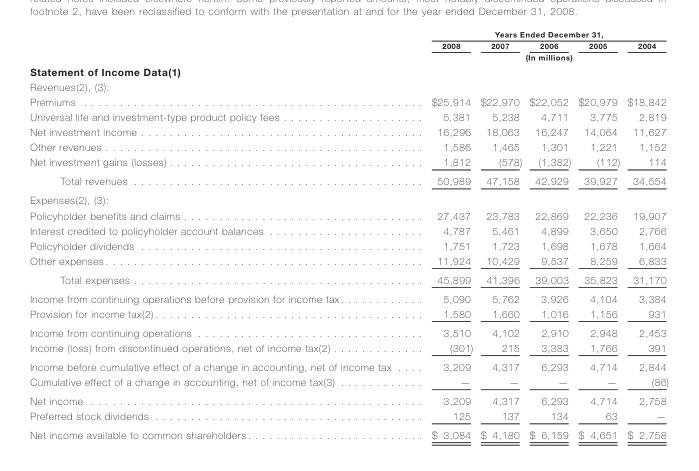table: (29, 29, 667, 440)
table column: (29, 29, 410, 440), (410, 29, 476, 440), (524, 29, 573, 440), (573, 29, 622, 440), (476, 29, 524, 440), (622, 29, 667, 440)
table column header: (29, 29, 667, 62)
table projected row header: (29, 190, 667, 207), (29, 62, 667, 78), (29, 78, 667, 93)
table row: (29, 171, 667, 190), (29, 269, 667, 288), (29, 339, 667, 357), (29, 154, 667, 171), (29, 190, 667, 207), (29, 252, 667, 269), (29, 288, 667, 305), (29, 305, 667, 322), (29, 322, 667, 339), (29, 357, 667, 374), (29, 374, 667, 391), (29, 391, 667, 408), (29, 408, 667, 425), (29, 62, 667, 78), (29, 108, 667, 124), (29, 78, 667, 93), (29, 93, 667, 108), (29, 124, 667, 139), (29, 139, 667, 154), (29, 207, 667, 222), (29, 222, 667, 237), (29, 237, 667, 252), (29, 425, 667, 440), (29, 50, 667, 62), (29, 39, 667, 50), (29, 29, 667, 39)
table spanning cell: (410, 50, 667, 62), (410, 29, 667, 39)
